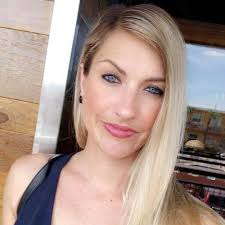white_female: (74, 23, 165, 159)
